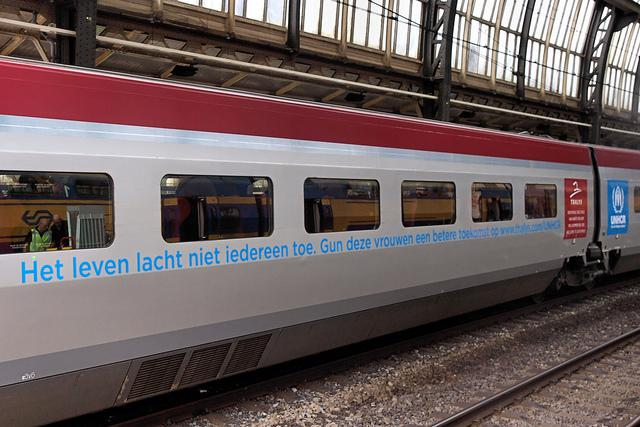Train: (0, 55, 640, 423)
